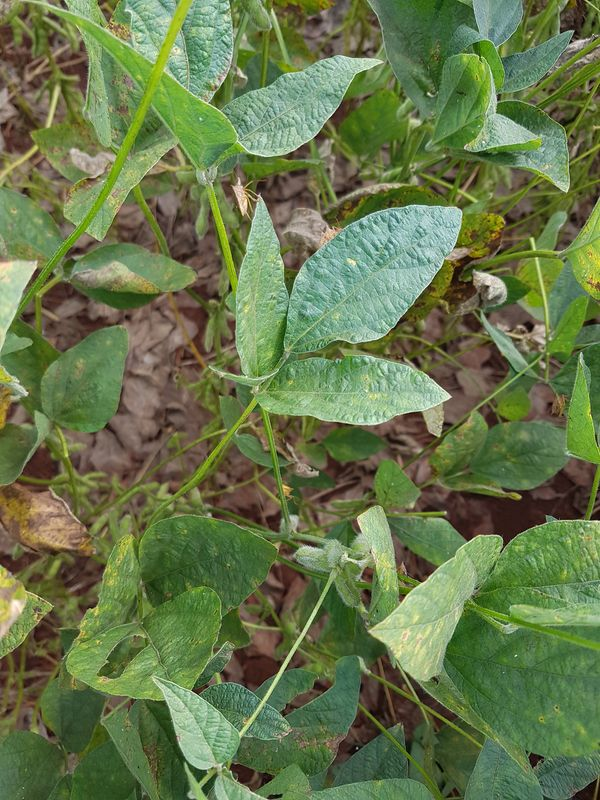Euschistus_heros_adulto: (217, 170, 267, 227)
